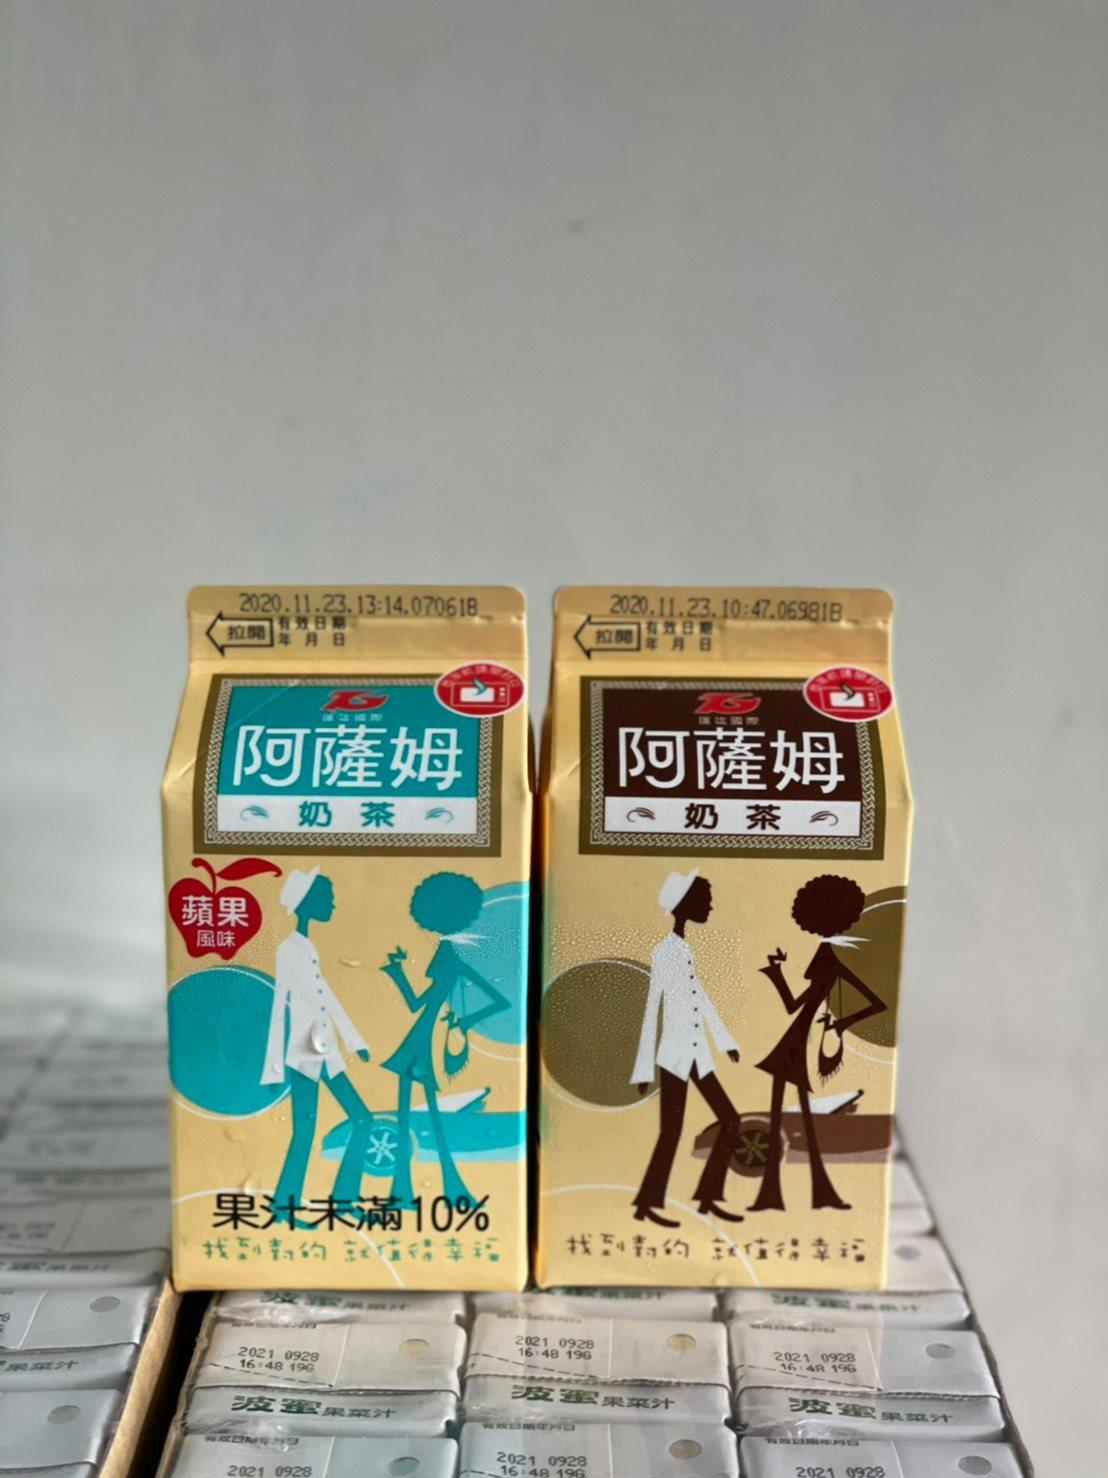cardboard: (538, 573, 910, 1288), (165, 570, 531, 1293)
